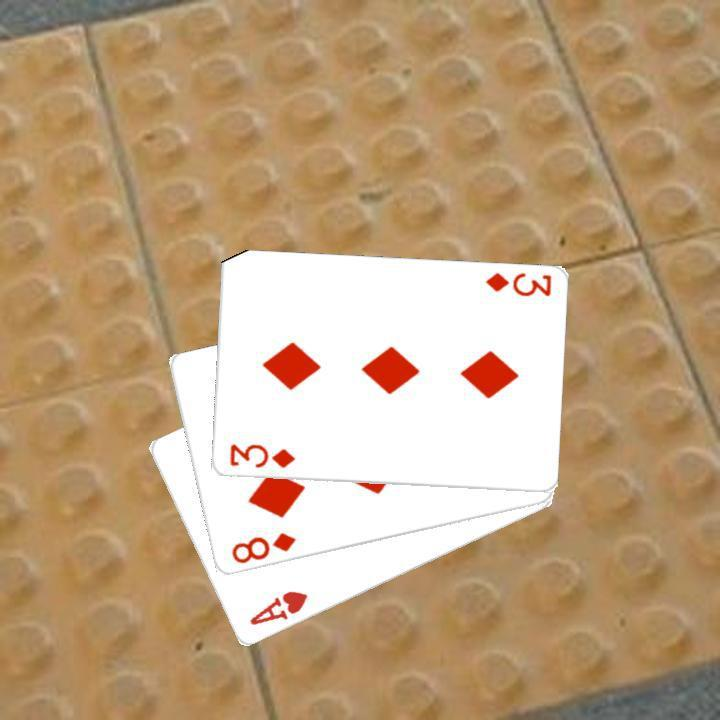3: (225, 439, 297, 471), (480, 268, 553, 299)
8: (226, 528, 298, 566)
A: (245, 587, 310, 628)
